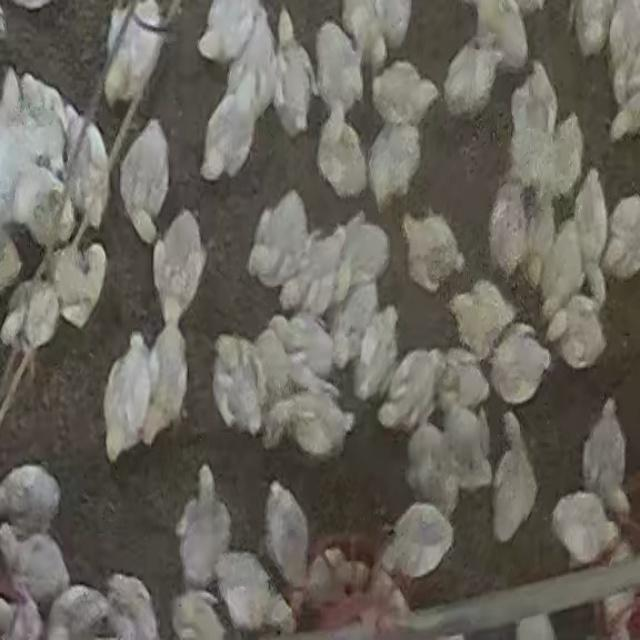chicken: (105, 0, 172, 108), (176, 463, 232, 589), (248, 189, 316, 292), (201, 78, 263, 184), (119, 116, 171, 242), (103, 332, 154, 458), (266, 388, 352, 461), (492, 410, 538, 545), (376, 344, 445, 434), (331, 213, 393, 312), (210, 334, 266, 442), (143, 319, 190, 447), (5, 259, 60, 364), (288, 225, 348, 321), (263, 479, 313, 592), (157, 208, 206, 322), (447, 279, 515, 361), (402, 420, 460, 516), (65, 115, 112, 233), (382, 502, 453, 580), (332, 277, 386, 378), (439, 394, 493, 495), (581, 397, 626, 515), (274, 10, 316, 136), (399, 212, 462, 296), (487, 323, 550, 407), (313, 16, 364, 119), (228, 6, 274, 120), (368, 120, 424, 212), (316, 106, 370, 201), (548, 489, 614, 566), (546, 292, 607, 374), (8, 530, 72, 608), (370, 59, 439, 130), (486, 182, 534, 284), (213, 548, 272, 630), (54, 237, 106, 330), (252, 323, 302, 418), (197, 0, 267, 67), (443, 39, 503, 116), (0, 462, 62, 536), (344, 0, 414, 64), (573, 168, 609, 291), (533, 112, 582, 202), (543, 217, 586, 314), (103, 572, 162, 640), (45, 583, 114, 640), (509, 63, 556, 142), (476, 0, 529, 67), (442, 348, 493, 417), (523, 194, 558, 294), (606, 1, 640, 86), (572, 0, 608, 58)
